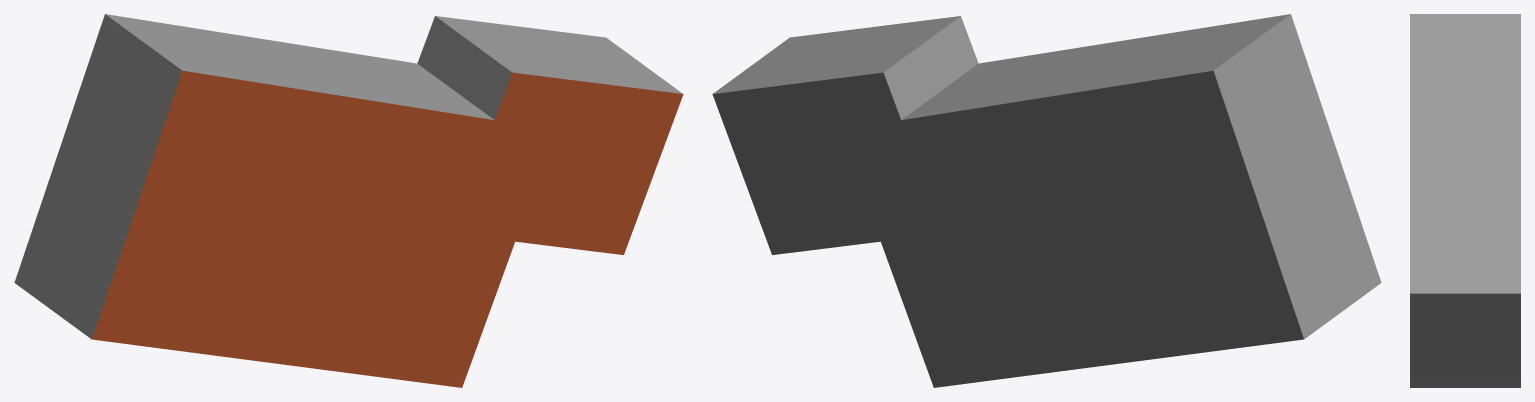
Rendered from construction_3294_assumed_A_Casa_h6m.obj.
3 renders of one model, left to right at view 1: azimuth 30°, elevation 25°; view 2: azimuth 150°, elevation 25°; view 3: azimuth 270°, elevation 25°, orthographic. The views are drawn at different scales.
Visible parts, largest first — view 1: construction_3294_assumed_A_Casa; view 2: construction_3294_assumed_A_Casa; view 3: construction_3294_assumed_A_Casa.
Boxes of the visible parts, <box> form: construction_3294_assumed_A_Casa: <box>14,14,683,387</box>; construction_3294_assumed_A_Casa: <box>712,14,1381,387</box>; construction_3294_assumed_A_Casa: <box>1410,14,1520,387</box>.
Size of the model in its own units: 26.49 by 16.49 by 6.
